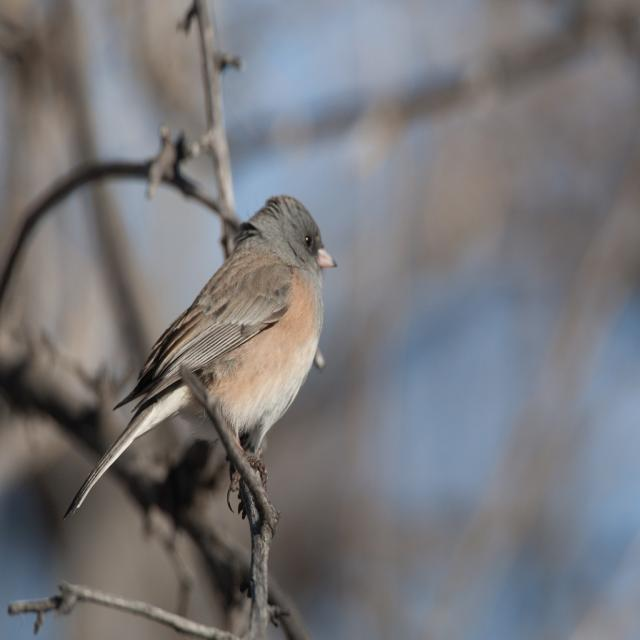bird: (57, 191, 344, 522)
